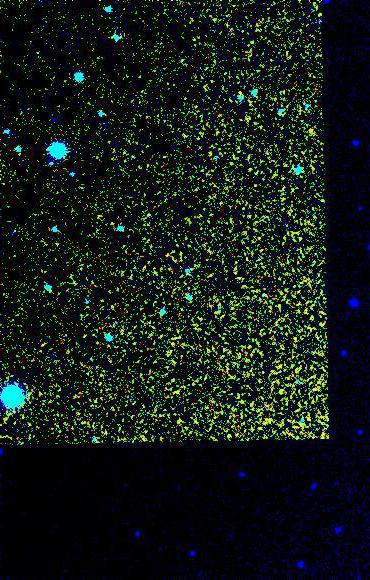star: (298, 112, 328, 142)
